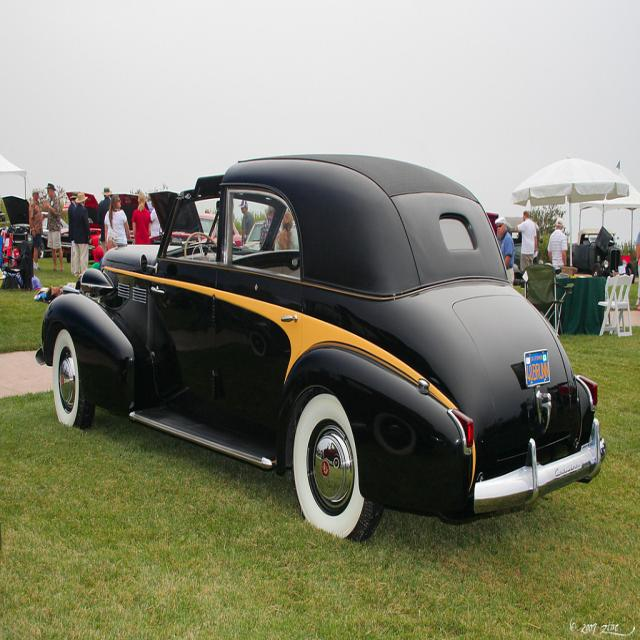car: (35, 165, 591, 548)
